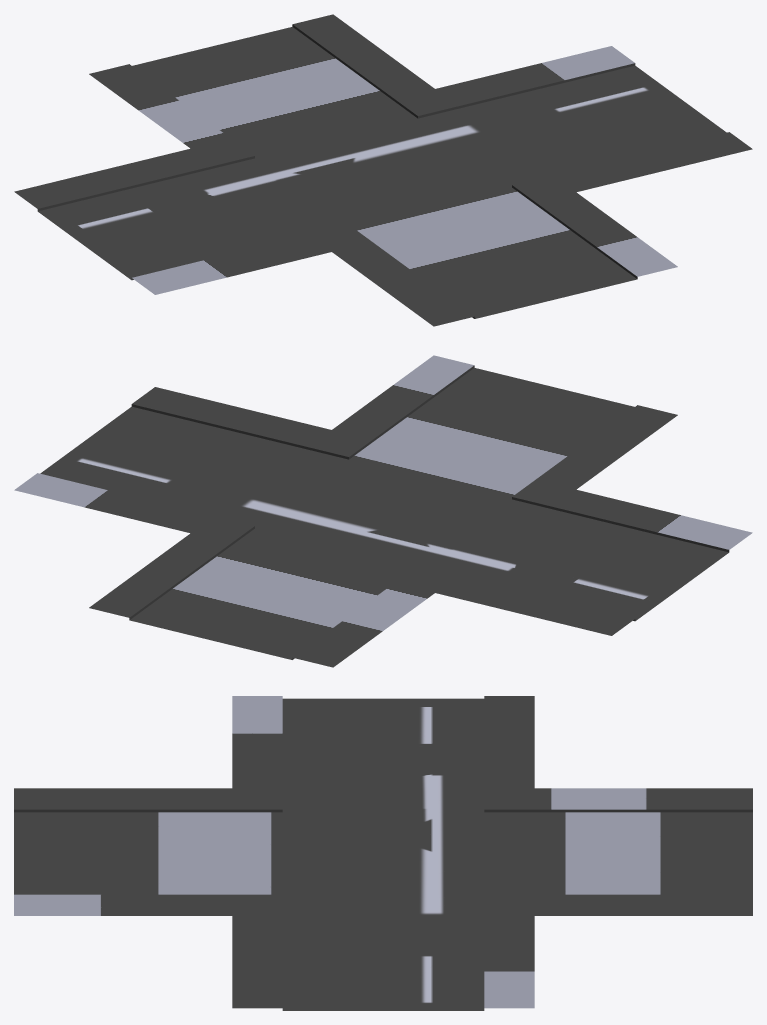
The model's file is 4Way.fbx.
3 views of the same model, one above another, from view 1: azimuth 30°, elevation 25°; view 2: azimuth 150°, elevation 25°; view 3: azimuth 270°, elevation 25° (orthographic). The views are drawn at different scales.
Parts seen in each view (by area): view 1: 4Way; view 2: 4Way; view 3: 4Way.
Boxes of the visible parts, left/top/right/bottom form: 4Way: left=14, top=14, right=752, bottom=326; 4Way: left=14, top=355, right=752, bottom=667; 4Way: left=14, top=696, right=752, bottom=1010.
Bounding box in the file's own units: 22 × 0.0877 × 22.
